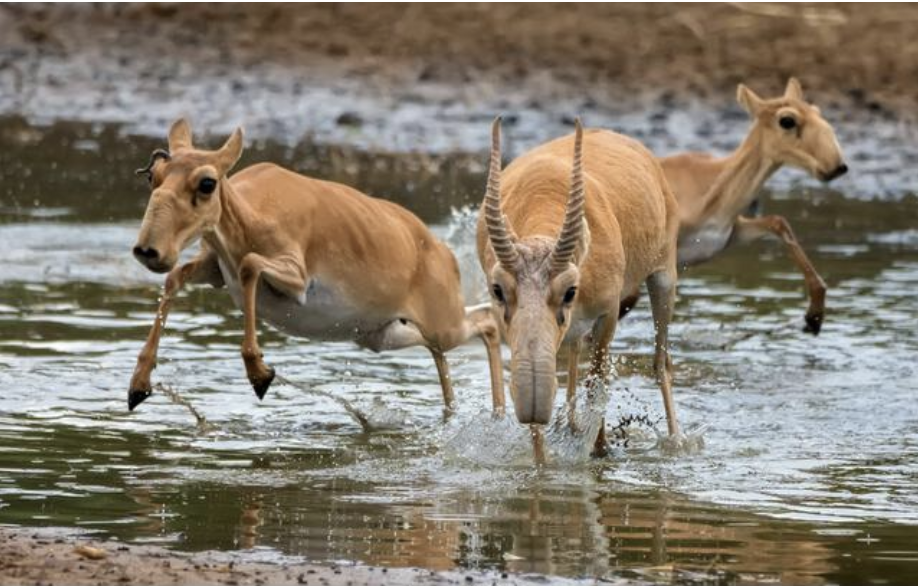saiga: (462, 85, 693, 447)
